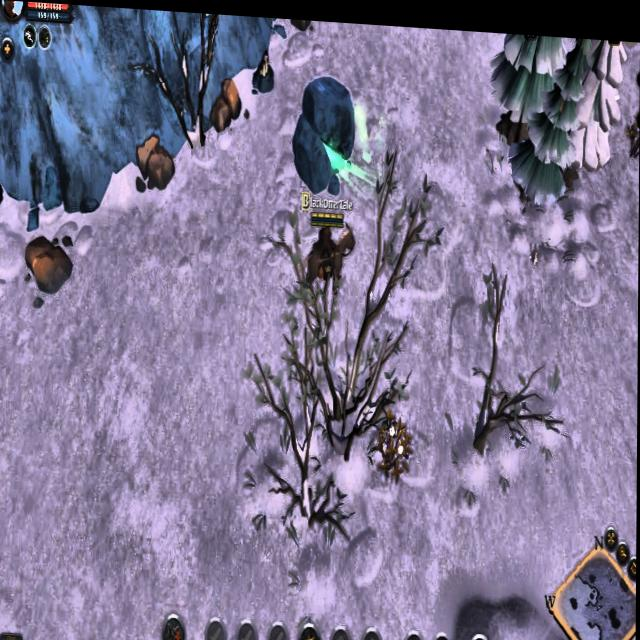copperore: (249, 45, 276, 94)
limestone: (24, 230, 72, 294), (133, 133, 175, 200), (207, 74, 243, 130), (291, 15, 321, 28)
